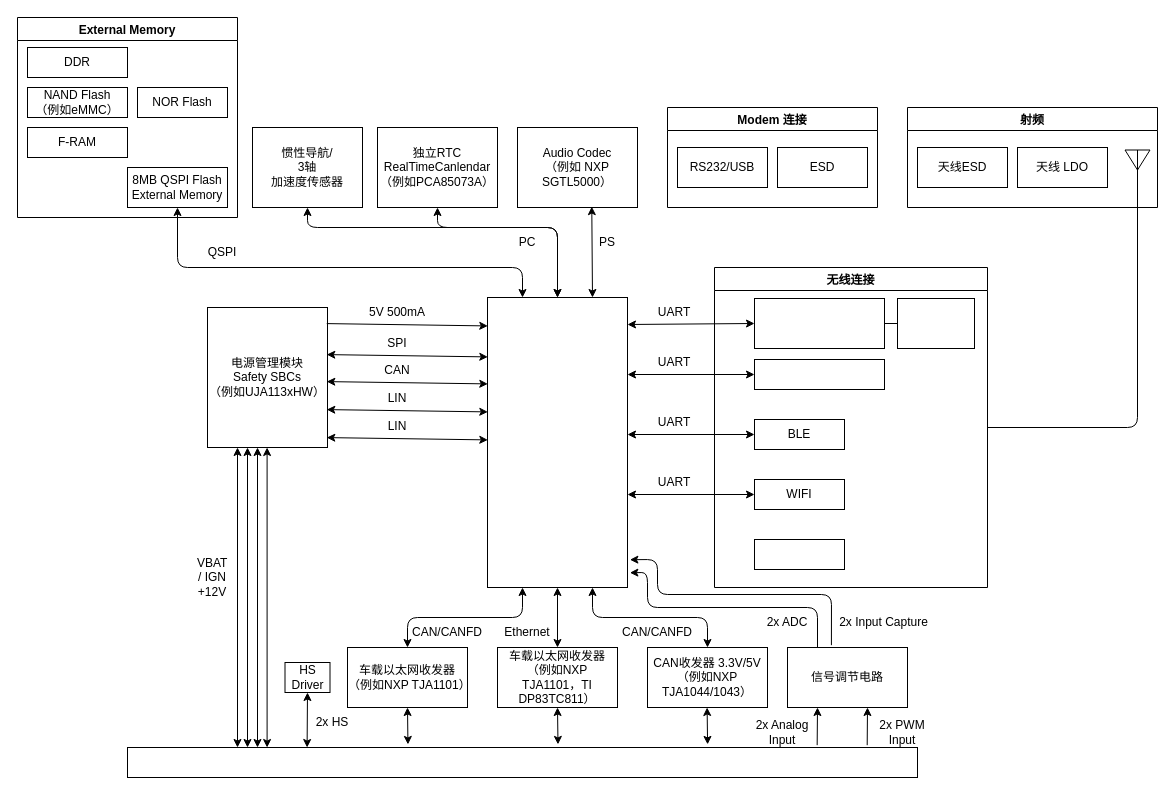
Some shapes in this 1175 by 795 pixel diagram are drawn without their labels. Each missing label, with the centre of its shape:
23/40-pin ECU 连接器: (522,762)
Clock Buffer: (799,554)
eSIM 卡: (935,323)
GNSS 例如：UM220-IV NL: (819,374)
GSM/LTE通信模组 例如：Quectel EC20 LTE Cat 4: (819,323)
MCU （例如：NXP S32K148 Infineon TRAVEO T2G CYT 287，封装LQFP-144/176）: (557,442)
